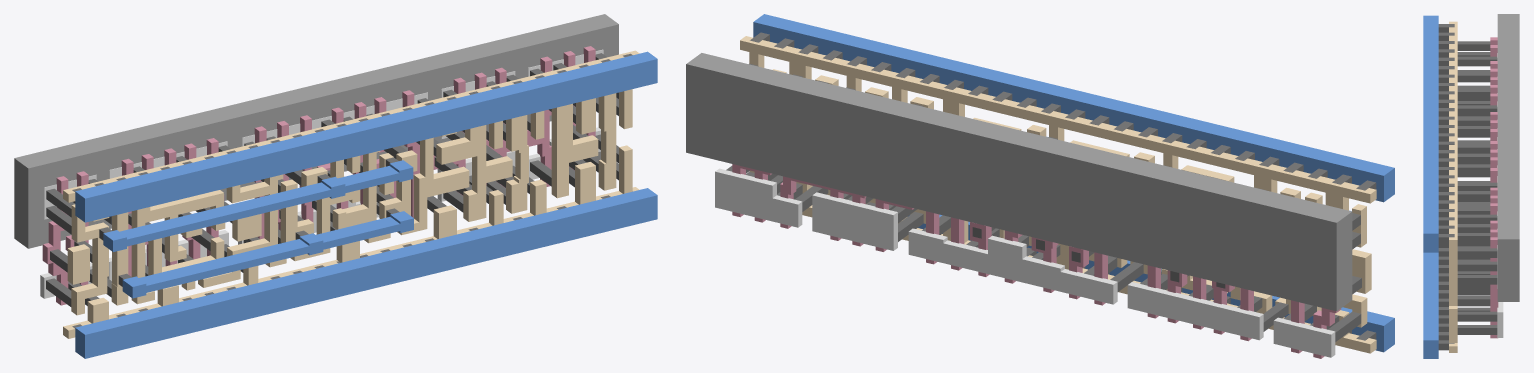
The model's file is sky130_fd_sc_hd__sdfxbp_2.gds.gltf.
The picture shows the model from 3 angles, left to right: view 1: azimuth 30°, elevation 25°; view 2: azimuth 150°, elevation 25°; view 3: azimuth 270°, elevation 25°; orthographic projection. The views are drawn at different scales.
Parts seen in each view (by area): view 1: sky130_fd_sc_hd__sdfxbp_2_met1, sky130_fd_sc_hd__sdfxbp_2_li1, sky130_fd_sc_hd__sdfxbp_2_nwell, sky130_fd_sc_hd__sdfxbp_2_poly, sky130_fd_sc_hd__sdfxbp_2_licon, sky130_fd_sc_hd__sdfxbp_2_diff, sky130_fd_sc_hd__sdfxbp_2_mcon; view 2: sky130_fd_sc_hd__sdfxbp_2_nwell, sky130_fd_sc_hd__sdfxbp_2_diff, sky130_fd_sc_hd__sdfxbp_2_li1, sky130_fd_sc_hd__sdfxbp_2_met1, sky130_fd_sc_hd__sdfxbp_2_poly, sky130_fd_sc_hd__sdfxbp_2_licon, sky130_fd_sc_hd__sdfxbp_2_mcon; view 3: sky130_fd_sc_hd__sdfxbp_2_licon, sky130_fd_sc_hd__sdfxbp_2_nwell, sky130_fd_sc_hd__sdfxbp_2_met1, sky130_fd_sc_hd__sdfxbp_2_mcon, sky130_fd_sc_hd__sdfxbp_2_li1, sky130_fd_sc_hd__sdfxbp_2_poly, sky130_fd_sc_hd__sdfxbp_2_diff.
Boxes of the visible parts, left/top/right/bottom form: sky130_fd_sc_hd__sdfxbp_2_met1: left=75, top=51, right=657, bottom=358; sky130_fd_sc_hd__sdfxbp_2_li1: left=63, top=50, right=639, bottom=338; sky130_fd_sc_hd__sdfxbp_2_nwell: left=14, top=14, right=618, bottom=248; sky130_fd_sc_hd__sdfxbp_2_poly: left=42, top=46, right=595, bottom=305; sky130_fd_sc_hd__sdfxbp_2_licon: left=46, top=53, right=618, bottom=306; sky130_fd_sc_hd__sdfxbp_2_diff: left=40, top=49, right=603, bottom=298; sky130_fd_sc_hd__sdfxbp_2_mcon: left=72, top=53, right=632, bottom=328; sky130_fd_sc_hd__sdfxbp_2_nwell: left=686, top=53, right=1352, bottom=311; sky130_fd_sc_hd__sdfxbp_2_diff: left=715, top=168, right=1335, bottom=357; sky130_fd_sc_hd__sdfxbp_2_li1: left=740, top=36, right=1376, bottom=353; sky130_fd_sc_hd__sdfxbp_2_met1: left=753, top=14, right=1394, bottom=352; sky130_fd_sc_hd__sdfxbp_2_poly: left=732, top=164, right=1341, bottom=358; sky130_fd_sc_hd__sdfxbp_2_licon: left=726, top=63, right=1361, bottom=341; sky130_fd_sc_hd__sdfxbp_2_mcon: left=750, top=32, right=1376, bottom=340; sky130_fd_sc_hd__sdfxbp_2_licon: left=1457, top=41, right=1497, bottom=334; sky130_fd_sc_hd__sdfxbp_2_nwell: left=1497, top=14, right=1519, bottom=301; sky130_fd_sc_hd__sdfxbp_2_met1: left=1423, top=15, right=1438, bottom=358; sky130_fd_sc_hd__sdfxbp_2_mcon: left=1438, top=24, right=1454, bottom=350; sky130_fd_sc_hd__sdfxbp_2_li1: left=1449, top=21, right=1457, bottom=352; sky130_fd_sc_hd__sdfxbp_2_poly: left=1490, top=37, right=1498, bottom=338; sky130_fd_sc_hd__sdfxbp_2_diff: left=1497, top=53, right=1503, bottom=337.
Bounding box in the file's own units: 12.34 × 3.2 × 2.24.
